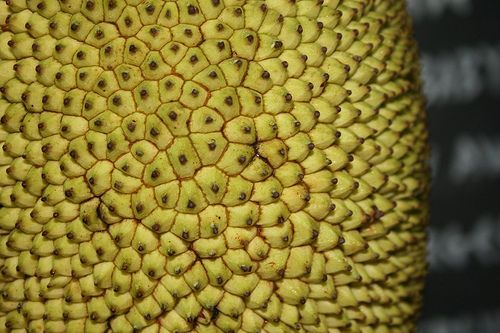jackfruit: (0, 0, 430, 332)
